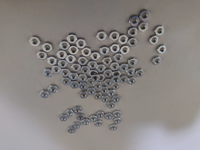nut: (29, 36, 41, 47), (76, 38, 87, 49), (130, 15, 140, 27), (140, 9, 150, 21), (42, 42, 53, 52), (47, 56, 58, 66), (58, 59, 69, 69), (81, 47, 92, 57), (155, 25, 165, 36), (56, 50, 68, 59), (67, 34, 77, 44), (78, 56, 88, 66), (97, 31, 107, 41), (110, 31, 120, 41), (128, 27, 138, 37), (138, 22, 148, 32), (120, 63, 130, 73), (135, 68, 145, 78), (39, 90, 50, 99), (71, 63, 82, 72), (37, 51, 47, 60), (44, 68, 53, 78), (48, 85, 58, 94), (60, 41, 70, 50), (69, 46, 79, 55), (61, 77, 71, 86), (88, 61, 98, 70), (97, 63, 106, 73), (110, 62, 120, 71), (100, 46, 109, 56), (111, 43, 120, 53), (119, 35, 128, 45), (121, 45, 130, 55), (128, 37, 137, 47), (153, 56, 162, 66), (158, 44, 167, 54), (111, 62, 120, 72), (127, 77, 137, 86), (128, 58, 138, 67), (79, 82, 88, 91), (81, 66, 90, 75), (87, 87, 96, 96), (112, 95, 121, 104), (150, 36, 159, 45), (114, 53, 123, 62), (104, 69, 113, 78), (120, 75, 129, 84), (127, 68, 136, 77), (66, 55, 76, 63), (61, 69, 71, 77), (91, 52, 101, 60), (112, 71, 122, 79), (53, 66, 62, 74), (79, 91, 88, 99), (100, 86, 108, 95), (107, 89, 116, 97), (104, 79, 113, 87), (59, 114, 68, 122), (74, 106, 82, 115), (89, 115, 98, 123), (105, 112, 113, 121), (109, 124, 118, 132), (113, 110, 122, 118), (103, 57, 112, 65), (112, 76, 121, 84), (69, 73, 79, 80), (79, 74, 87, 82), (71, 81, 79, 89), (87, 78, 95, 86), (66, 109, 74, 117), (95, 120, 103, 128), (114, 118, 122, 126), (89, 70, 98, 77), (94, 82, 103, 89), (101, 96, 110, 103), (106, 102, 115, 109), (112, 83, 121, 90), (95, 92, 102, 100), (92, 75, 100, 82), (98, 74, 105, 82), (68, 127, 76, 134), (74, 122, 82, 129), (83, 119, 90, 126), (98, 111, 104, 119)
